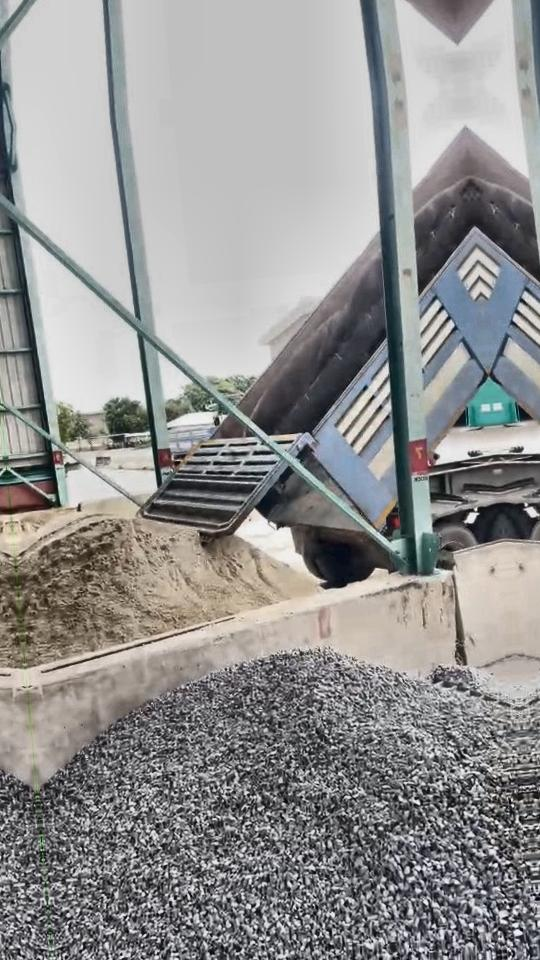gravel: (41, 649, 540, 960), (429, 664, 520, 706)
sand: (17, 511, 317, 665)
